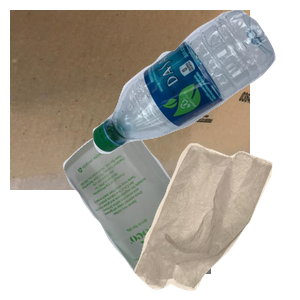cardboard: (10, 10, 250, 190)
glass: (60, 120, 300, 300)
plastic: (90, 10, 300, 156)
trash: (132, 140, 300, 300)
